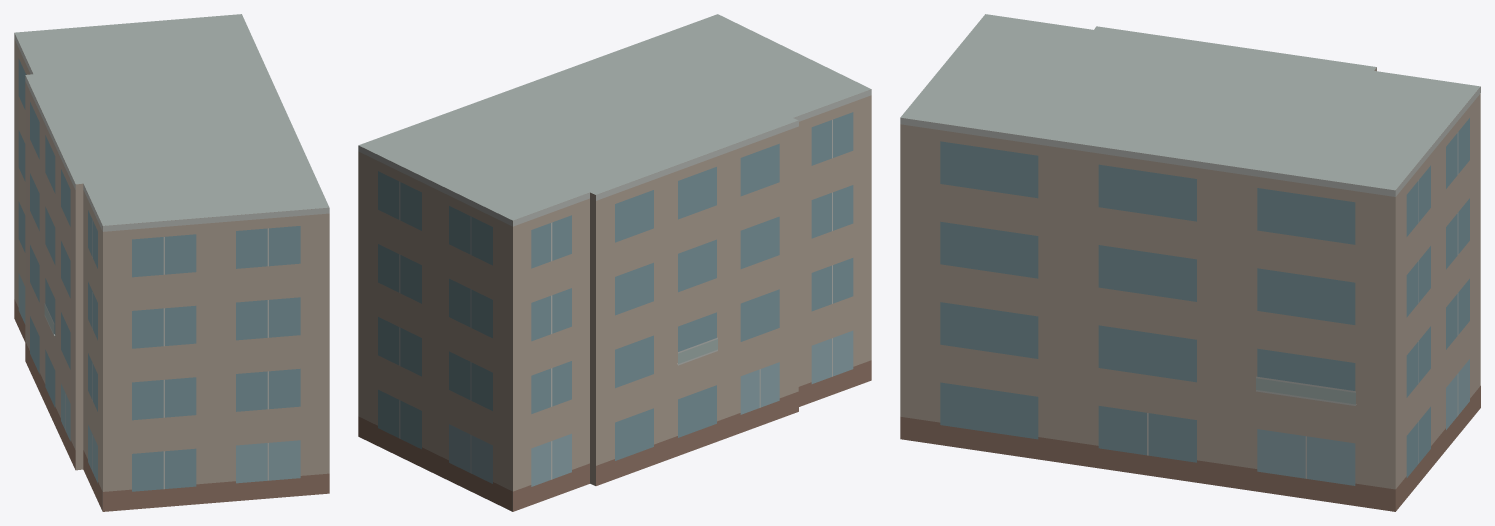
Rendered from survey-upis-33012611.glb.
3 renders of one model, left to right at view 1: azimuth 30°, elevation 25°; view 2: azimuth 150°, elevation 25°; view 3: azimuth 270°, elevation 25°, orthographic. The views are drawn at different scales.
Parts seen in each view (by area): view 1: survey-upis-33012611.tmp; view 2: survey-upis-33012611.tmp; view 3: survey-upis-33012611.tmp.
Boxes of the visible parts, box(x1,y1,x2,y2) form: survey-upis-33012611.tmp: box(14, 14, 329, 511); survey-upis-33012611.tmp: box(358, 14, 871, 511); survey-upis-33012611.tmp: box(900, 14, 1480, 511).
Bounding box in the file's own units: 13.89 × 11.8 × 19.32.
